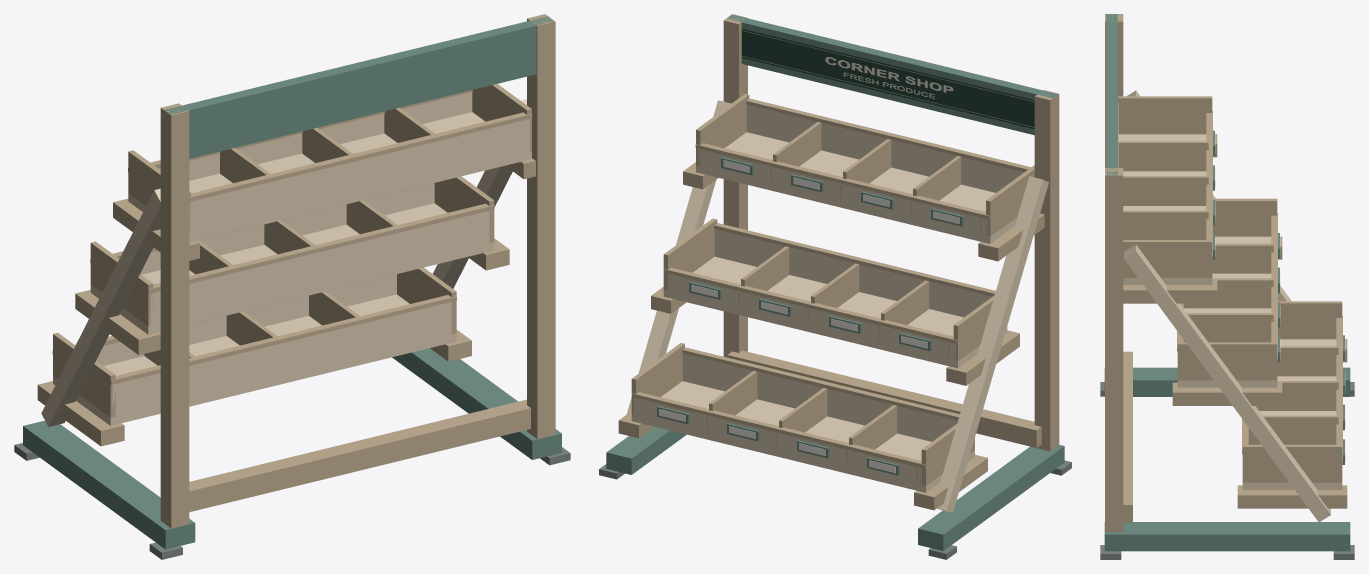
The model's file is produce-tiered.glb.
3 renders of one model, left to right at view 1: azimuth 30°, elevation 25°; view 2: azimuth 150°, elevation 25°; view 3: azimuth 270°, elevation 25°, orthographic. The views are drawn at different scales.
Parts seen in each view (by area): view 1: library-equipment-produce-tiered-product-equipment-birch-edg, library-equipment-produce-tiered-product-equipment-birch, library-equipment-produce-tiered-product-equipment-forest, library-equipment-produce-tiered-product-equipment-rubber; view 2: library-equipment-produce-tiered-product-equipment-birch, library-equipment-produce-tiered-product-equipment-birch-edg, library-equipment-produce-tiered-product-equipment-forest, library-equipment-produce-tiered-produce-tiered-produce-sign, library-equipment-produce-tiered-product-equipment-cream, library-equipment-produce-tiered-product-equipment-rubber; view 3: library-equipment-produce-tiered-product-equipment-birch-edg, library-equipment-produce-tiered-product-equipment-birch, library-equipment-produce-tiered-product-equipment-forest, library-equipment-produce-tiered-product-equipment-rubber.
Boxes of the visible parts, bbox=[...] form: library-equipment-produce-tiered-product-equipment-birch-edg: bbox=[37, 14, 555, 528]; library-equipment-produce-tiered-product-equipment-birch: bbox=[41, 92, 531, 426]; library-equipment-produce-tiered-product-equipment-forest: bbox=[23, 16, 561, 549]; library-equipment-produce-tiered-product-equipment-rubber: bbox=[14, 443, 570, 559]; library-equipment-produce-tiered-product-equipment-birch: bbox=[626, 100, 1048, 512]; library-equipment-produce-tiered-product-equipment-birch-edg: bbox=[618, 14, 1059, 510]; library-equipment-produce-tiered-product-equipment-forest: bbox=[606, 14, 1064, 550]; library-equipment-produce-tiered-produce-tiered-produce-sign: bbox=[741, 28, 1034, 129]; library-equipment-produce-tiered-product-equipment-cream: bbox=[659, 160, 959, 473]; library-equipment-produce-tiered-product-equipment-rubber: bbox=[599, 460, 1071, 559]; library-equipment-produce-tiered-product-equipment-birch-edg: bbox=[1105, 14, 1347, 531]; library-equipment-produce-tiered-product-equipment-birch: bbox=[1118, 90, 1342, 522]; library-equipment-produce-tiered-product-equipment-forest: bbox=[1104, 14, 1350, 551]; library-equipment-produce-tiered-product-equipment-rubber: bbox=[1100, 382, 1354, 559].
Size of the model in its own units: 1.44 by 1.48 by 0.9.
6 materials, 1 textured.
